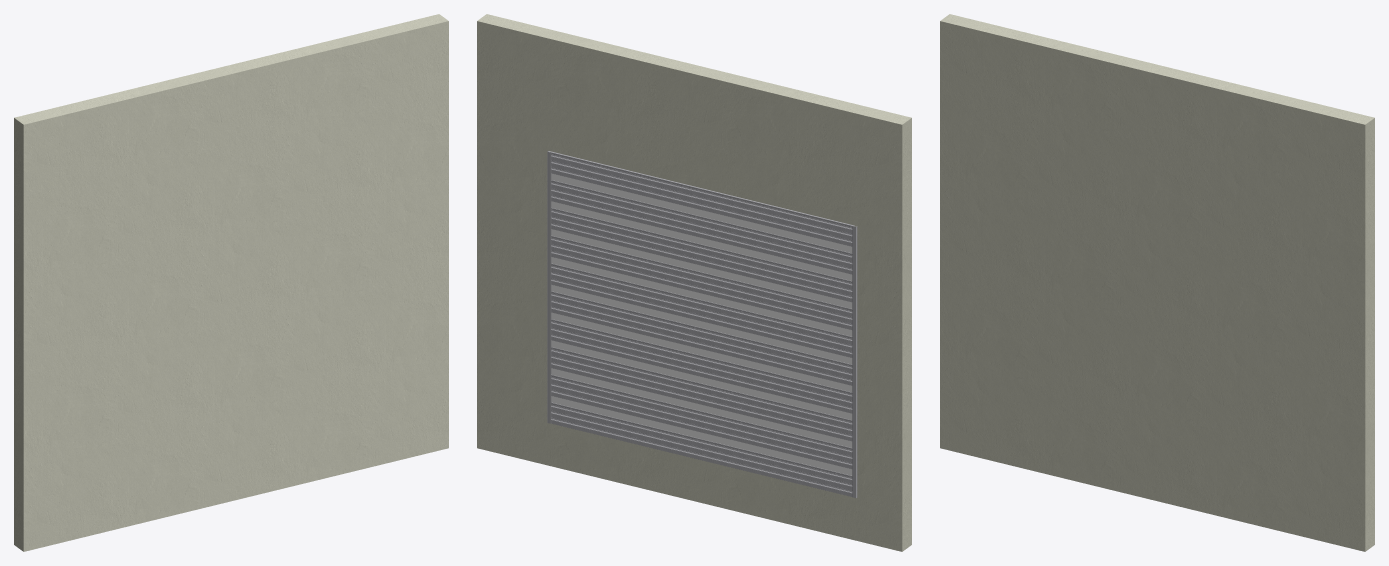
The model's file is Design2.glb.
3 renders of one model, left to right at view 1: azimuth 30°, elevation 25°; view 2: azimuth 150°, elevation 25°; view 3: azimuth 330°, elevation 25°, orthographic.
Parts seen in each view (by area): view 1: A; view 2: A, FusionTrack20, FusionTrack19, FusionTrack11, FusionTrack14, FusionTrack15, FusionTrack18, FusionTrack16, FusionTrack12, FusionTrack17, FusionTrack13, FusionPart2 (+10 smaller); view 3: A.
Part boxes in pixels (x1,y1,x2,y2): A: [14, 14, 448, 551]; A: [477, 14, 911, 551]; FusionTrack20: [548, 151, 854, 246]; FusionTrack19: [551, 180, 852, 274]; FusionTrack11: [551, 402, 852, 496]; FusionTrack14: [551, 319, 852, 413]; FusionTrack15: [551, 291, 852, 385]; FusionTrack18: [551, 208, 852, 302]; FusionTrack16: [551, 263, 852, 357]; FusionTrack12: [551, 374, 852, 468]; FusionTrack17: [551, 235, 852, 329]; FusionTrack13: [551, 347, 852, 441]; FusionPart2: [551, 396, 852, 475]; A: [940, 14, 1374, 551].
Size of the model in its own units: 2.54 by 2.44 by 0.113.
Materials: 3 (2 with a texture image).
